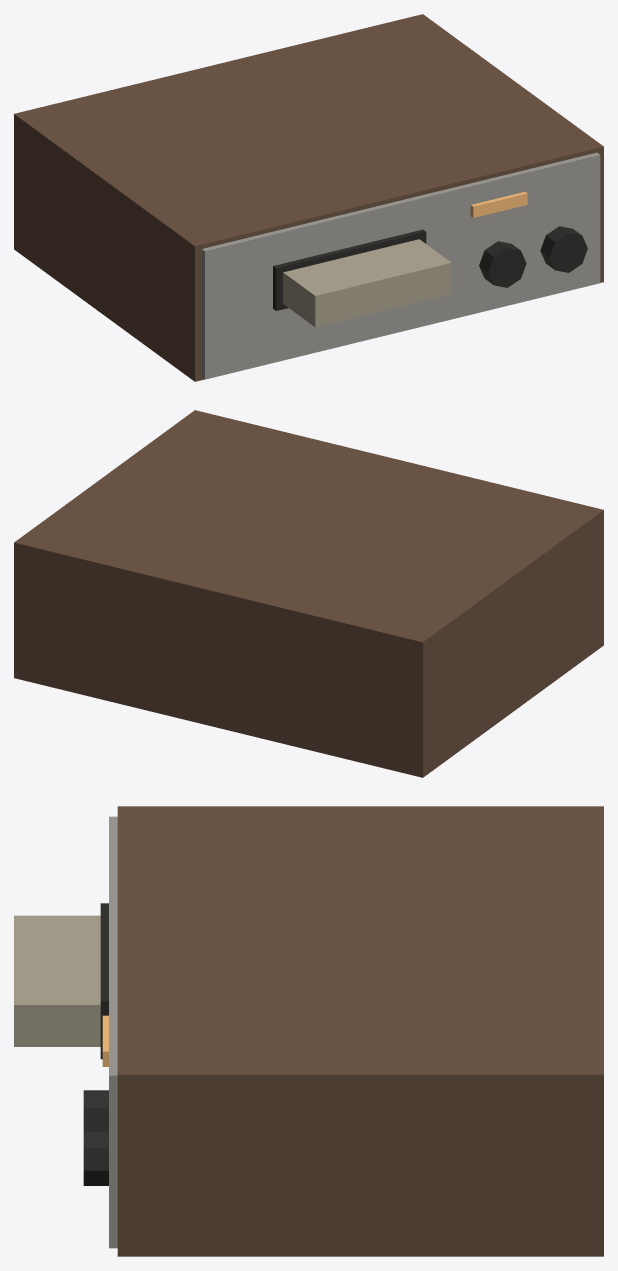
File: eight-track-player.glb
3 views of the same model, one above another, from view 1: azimuth 30°, elevation 25°; view 2: azimuth 150°, elevation 25°; view 3: azimuth 270°, elevation 25° (orthographic). The views are drawn at different scales.
Visible parts, largest first — view 1: wood, brushed, plastic-light, plastic-dark, emissive-warm; view 2: wood; view 3: wood, plastic-light, brushed, plastic-dark.
Boxes of the visible parts, x1,y1,x2,y2 form: wood: [14, 14, 603, 381]; brushed: [202, 152, 600, 379]; plastic-light: [283, 239, 451, 327]; plastic-dark: [273, 226, 587, 310]; emissive-warm: [470, 191, 527, 217]; wood: [14, 410, 603, 777]; wood: [117, 806, 603, 1256]; plastic-light: [14, 915, 100, 1046]; brushed: [109, 816, 117, 1248]; plastic-dark: [83, 903, 108, 1185].
Size of the model in its own units: 0.3 by 0.1 by 0.279.
